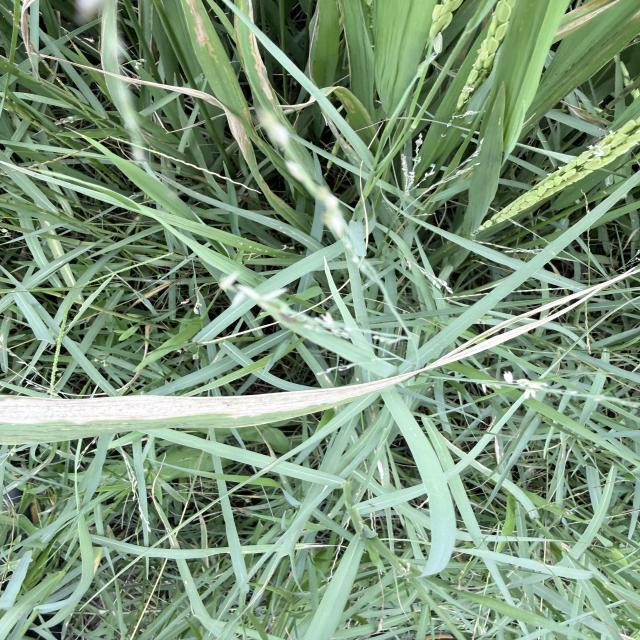Chay bia la: (1, 268, 638, 427)
